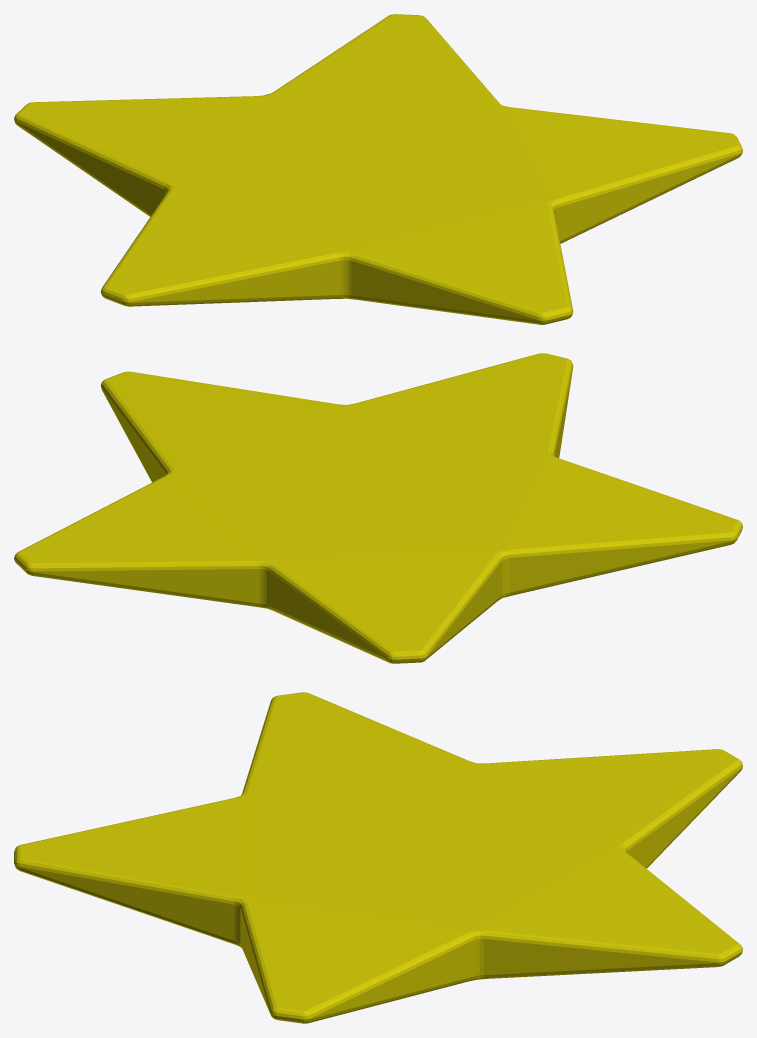
Rendered from estrela amarela.fbx.
3 renders of one model, top to bottom at view 1: azimuth 30°, elevation 25°; view 2: azimuth 150°, elevation 25°; view 3: azimuth 270°, elevation 25°, orthographic. The views are drawn at different scales.
Parts seen in each view (by area): view 1: Cylinder.002; view 2: Cylinder.002; view 3: Cylinder.002.
Part boxes in pixels (x1,y1,x2,y2): Cylinder.002: (14,14,742,324); Cylinder.002: (14,353,742,663); Cylinder.002: (14,692,742,1023).
Bounding box in the file's own units: 0.3317 × 0.0233 × 0.3159.
